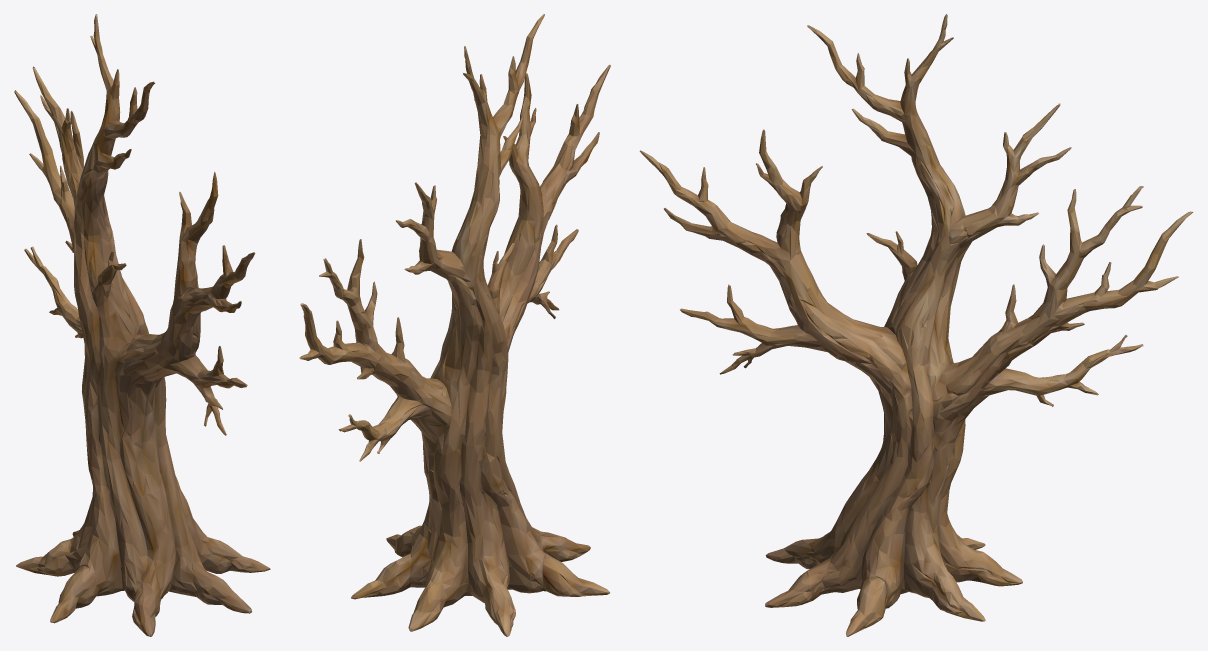
File: dead_tree.glb
3 views of the same model, side by side, from view 1: azimuth 30°, elevation 25°; view 2: azimuth 150°, elevation 25°; view 3: azimuth 270°, elevation 25° (orthographic).
Visible parts, largest first — view 1: tripo_node_4192b353-0236-4d2b-b731-4d8b72196bd4; view 2: tripo_node_4192b353-0236-4d2b-b731-4d8b72196bd4; view 3: tripo_node_4192b353-0236-4d2b-b731-4d8b72196bd4.
Boxes of the visible parts, x1,y1,x2,y2 form: tripo_node_4192b353-0236-4d2b-b731-4d8b72196bd4: (14, 14, 270, 636); tripo_node_4192b353-0236-4d2b-b731-4d8b72196bd4: (299, 14, 610, 636); tripo_node_4192b353-0236-4d2b-b731-4d8b72196bd4: (639, 14, 1193, 636).
Size of the model in its own units: 0.4069 by 0.9786 by 0.8737.
